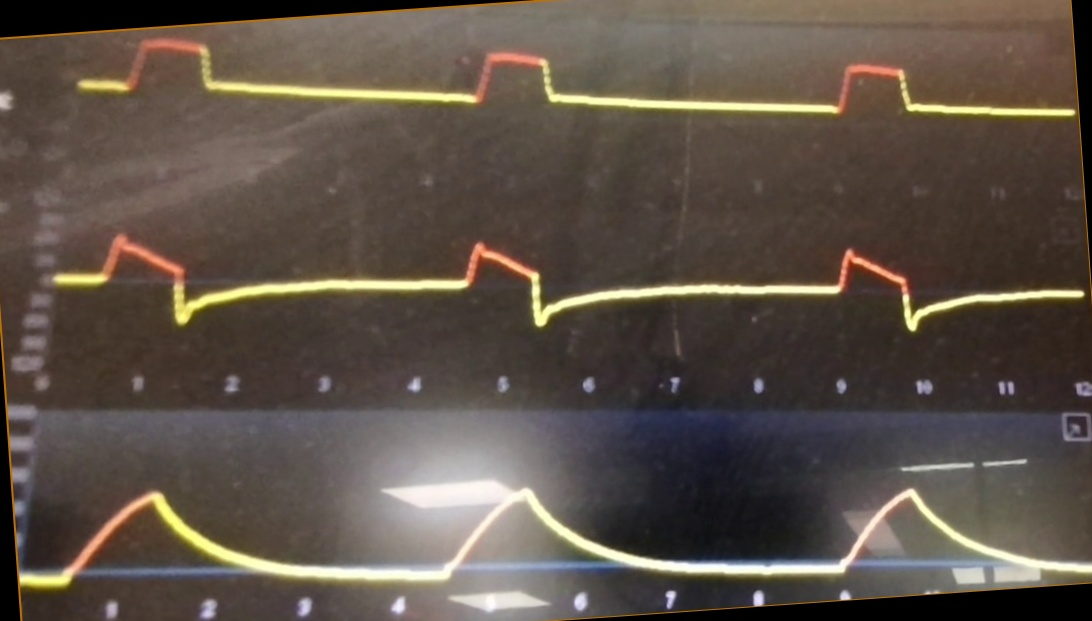Normal Flow: (51, 216, 1085, 348)
Normal Volume: (24, 467, 1092, 593)
